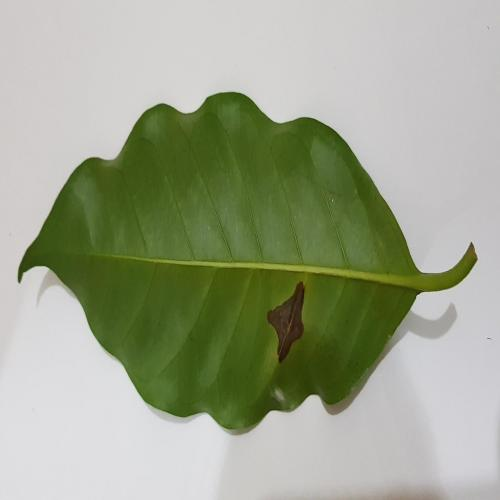leaf: (267, 281, 305, 363)
